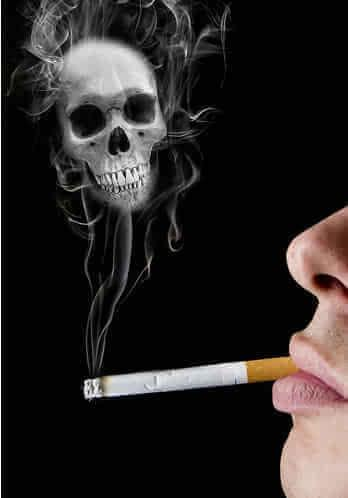smoke: (84, 357, 298, 401)
